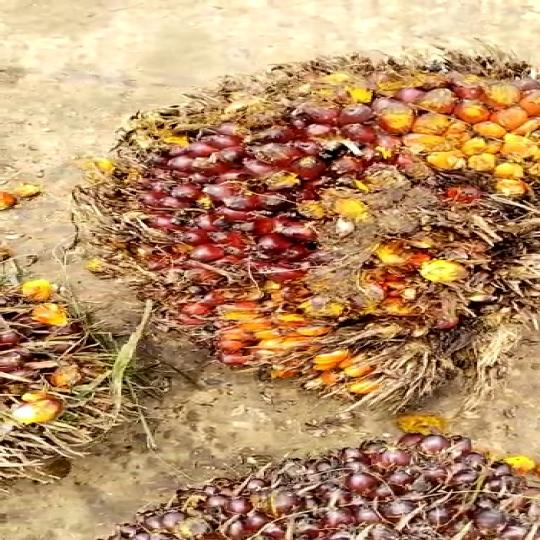masak: (96, 44, 540, 411)
